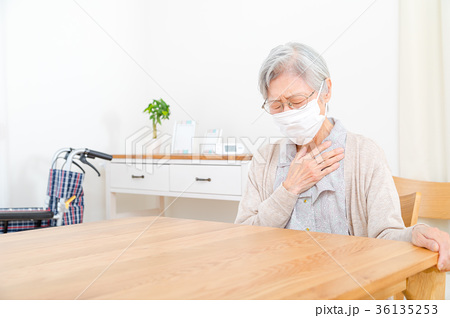mask: (273, 106, 328, 148)
